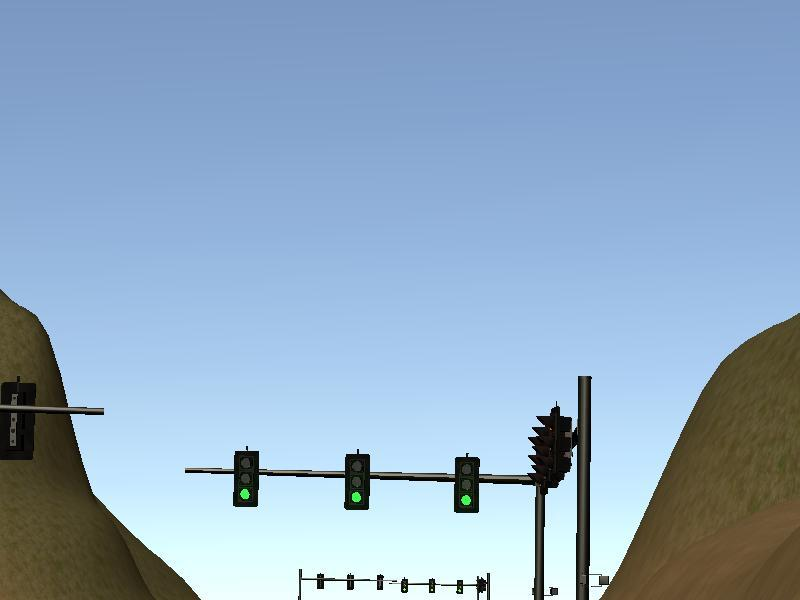Green: (233, 451, 259, 508), (454, 457, 480, 514), (345, 453, 371, 510)
